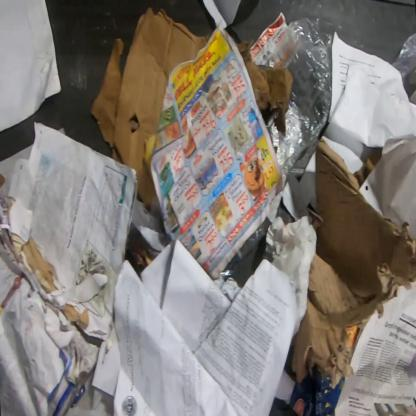cardboard: (290, 137, 416, 390), (113, 5, 211, 210), (236, 37, 293, 134), (274, 368, 345, 415), (346, 326, 361, 351)
soft_plastic: (264, 15, 335, 197), (218, 215, 273, 282), (390, 32, 416, 99)
